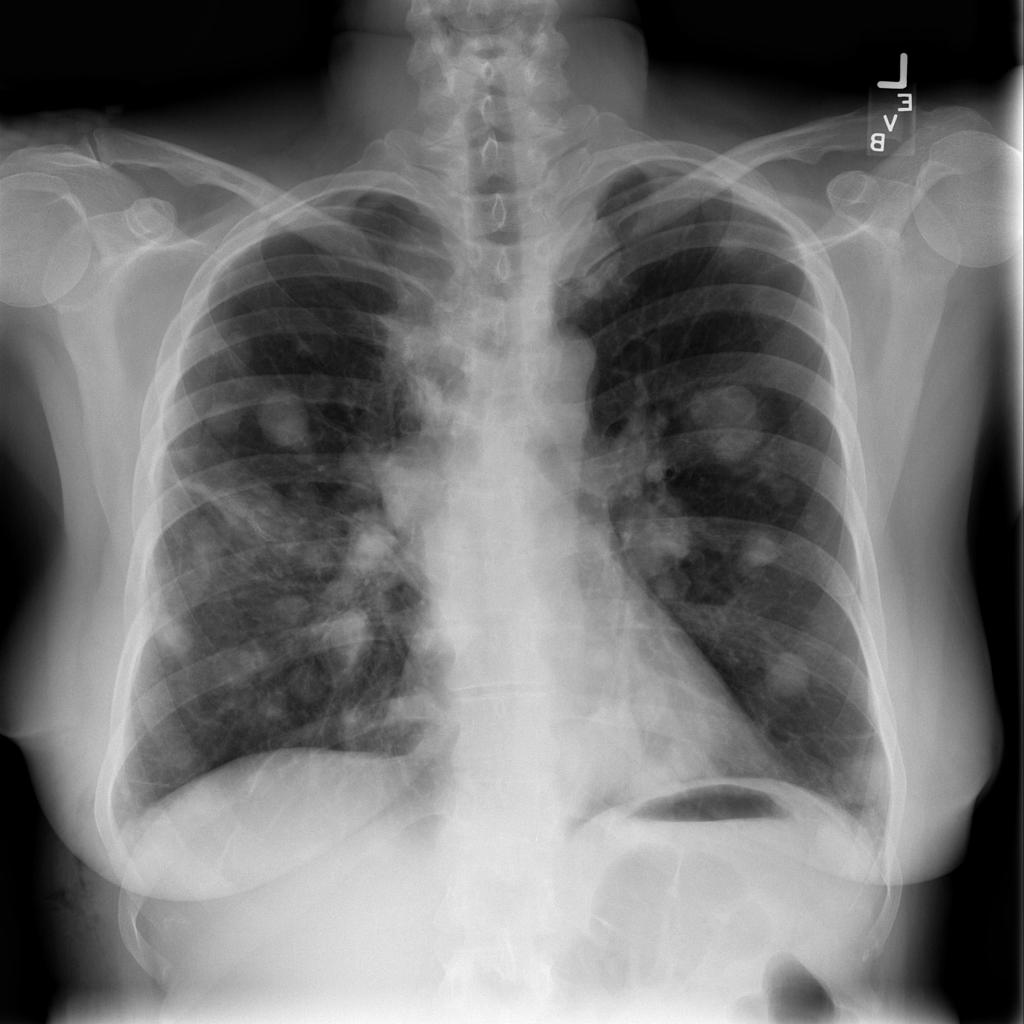nodule: (551, 690, 658, 807), (682, 363, 782, 477), (625, 488, 708, 568), (802, 810, 885, 882), (223, 477, 305, 548), (826, 738, 902, 813), (307, 597, 380, 675), (752, 638, 826, 714), (201, 631, 276, 705), (165, 511, 233, 592), (721, 515, 796, 583), (251, 378, 317, 454), (340, 509, 410, 578), (136, 598, 204, 667), (197, 313, 267, 379), (749, 455, 816, 520), (197, 386, 248, 445), (579, 631, 628, 687), (280, 657, 333, 708), (151, 737, 210, 781), (707, 218, 760, 266), (247, 687, 300, 735), (265, 579, 319, 626), (300, 363, 342, 408)
